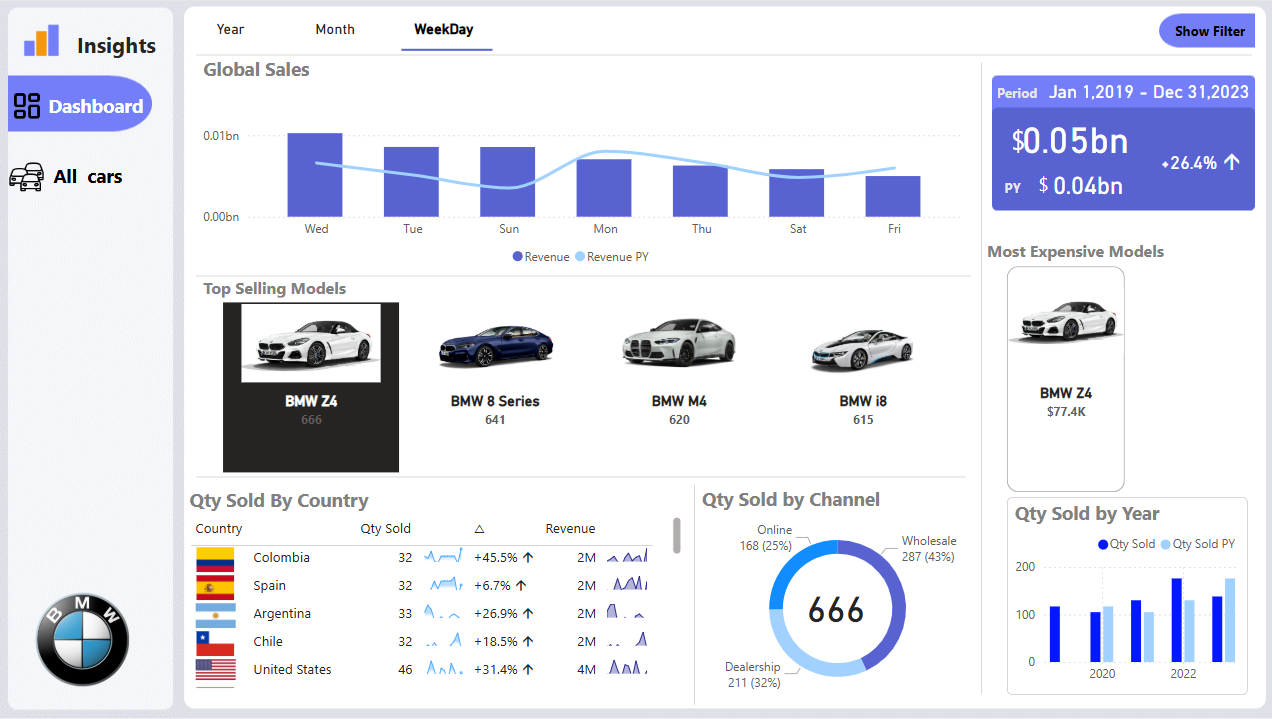

This screenshot's page, from the dashboard's own definition file:
{"tool":"powerbi","page":{"name":"BMW Dashboard","canvas":[1280,720],"ordinal":0},"visuals":[{"type":"advancedSlicerVisual","fields":{"Values":["PeriodSlicer.PeriodSlicer"]},"box":[201.1,0,300.8,55.2],"z":0},{"type":"textbox","box":[75.3,23.8,98.3,40],"z":0,"group":"g2"},{"type":"image","box":[10.3,13.8,68.3,48.3],"z":1000,"group":"g2"},{"type":"lineClusteredColumnComboChart","title":" Global Sales","fields":{"Category":["Calendar.Year"],"Y":["All Measures.Revenue"],"Y2":["All Measures.Revenue PY"]},"box":[201.1,55.2,768.9,218.9],"z":1000},{"type":"card","fields":{"Values":["All Measures.Revenue"]},"box":[1007.5,110,142.5,52.5],"z":2000,"group":"g3"},{"type":"card","fields":{"Values":["All Measures.Revenue PY"]},"box":[1030,156.2,122.5,55],"z":3000,"group":"g4"},{"type":"textbox","box":[1002,172.6,53.4,39.2],"z":4000,"group":"g4"},{"type":"card","fields":{"Values":["All Measures.Revenue Variance % Arrow"]},"box":[1135,135.4,133,55.1],"z":5000},{"type":"card","fields":{"Values":["All Measures.Selected Period"]},"box":[1037.6,64.1,229.6,55.2],"z":6000},{"type":"textbox","box":[994.9,77,60.5,44.5],"z":7000},{"type":"advancedSlicerVisual","title":"Top Selling Models","fields":{"Values":["dimModel.Model"]},"box":[201.3,274.5,780.2,202.5],"z":8000},{"type":"advancedSlicerVisual","title":"Most Expensive Models","fields":{"Values":["dimModel.Model"]},"box":[985.2,238.5,294.8,257.7],"z":9000},{"type":"clusteredColumnChart","title":"Qty Sold by Year","fields":{"Y":["All Measures.Qty Sold","All Measures.Qty Sold PY"],"Category":["Calendar.Year"]},"box":[1010.3,496.2,240.9,197.8],"z":10000},{"type":"donutChart","fields":{"Y":["All Measures.Qty Sold"],"Category":["dimChannel.Channel"]},"box":[699.9,485.4,281.6,220.5],"z":11000},{"type":"card","fields":{"Values":["All Measures.Qty Sold"]},"box":[783.8,575.3,110.3,59.9],"z":12000},{"type":"tableEx","title":"Qty Sold By Country","fields":{"Values":["dimCountry.Flag","dimCountry.Country","All Measures.Qty Sold","All Measures.Qty Sold Sparkline","All Measures.Qty Sold Variance % Arrow","All Measures.Revenue","All Measures.Revenue Sparkline"]},"box":[187,486.6,501.7,206.1],"z":13000},{"type":"textbox","box":[45.7,87.1,115.7,35.7],"z":14000},{"type":"image","box":[10,82.9,40,44.3],"z":15000},{"type":"image","box":[7.1,147.1,44.3,57.1],"z":16000},{"type":"textbox","box":[51.4,157.1,121.4,44.3],"z":17000},{"type":"actionButton","box":[6.2,153.8,172.5,45],"z":18000},{"type":"group","id":"g1","title":"Filter Pane","box":[905.7,12.5,353.3,471.7],"z":19000},{"type":"image","box":[34,584.1,103.2,108.9],"z":20000},{"type":"actionButton","box":[1167.5,12.5,91.4,34.3],"z":20001,"group":"g1"},{"type":"group","id":"g2","title":"Group 1","box":[10.3,13.8,163.3,50],"z":20001},{"type":"textbox","box":[1008.7,115,50,46.2],"z":20002,"group":"g3"},{"type":"textbox","box":[1036.2,165,42.5,38.8],"z":20003,"group":"g4"},{"type":"group","id":"g3","title":"Group 2","box":[1007.5,110,142.5,52.5],"z":20004},{"type":"group","id":"g4","title":"Group 3","box":[1002,156.2,150.5,55.5],"z":20005}]}

Visuals, with their boxes on the page's 1280x720 design canvas (x1, y1, x2, y2). These are canvas units, not pixel positions in the 1272x719 screenshot, which may show the page scaled, cropped or inside an application window:
advancedSlicerVisual - PeriodSlicer.PeriodSlicer: bbox=(201, 0, 502, 55)
textbox: bbox=(75, 24, 174, 64)
image: bbox=(10, 14, 79, 62)
" Global Sales" lineClusteredColumnComboChart: bbox=(201, 55, 970, 274)
card - All Measures.Revenue: bbox=(1008, 110, 1150, 162)
card - All Measures.Revenue PY: bbox=(1030, 156, 1152, 211)
textbox: bbox=(1002, 173, 1055, 212)
card - All Measures.Revenue Variance % Arrow: bbox=(1135, 135, 1268, 190)
card - All Measures.Selected Period: bbox=(1038, 64, 1267, 119)
textbox: bbox=(995, 77, 1055, 122)
"Top Selling Models" advancedSlicerVisual: bbox=(201, 274, 982, 477)
"Most Expensive Models" advancedSlicerVisual: bbox=(985, 238, 1280, 496)
"Qty Sold by Year" clusteredColumnChart: bbox=(1010, 496, 1251, 694)
donutChart - All Measures.Qty Sold x dimChannel.Channel: bbox=(700, 485, 982, 706)
card - All Measures.Qty Sold: bbox=(784, 575, 894, 635)
"Qty Sold By Country" tableEx: bbox=(187, 487, 689, 693)
textbox: bbox=(46, 87, 161, 123)
image: bbox=(10, 83, 50, 127)
image: bbox=(7, 147, 51, 204)
textbox: bbox=(51, 157, 173, 201)
actionButton: bbox=(6, 154, 179, 199)
"Filter Pane" group: bbox=(906, 12, 1259, 484)
image: bbox=(34, 584, 137, 693)
actionButton: bbox=(1168, 12, 1259, 47)
"Group 1" group: bbox=(10, 14, 174, 64)
textbox: bbox=(1009, 115, 1059, 161)
textbox: bbox=(1036, 165, 1079, 204)
"Group 2" group: bbox=(1008, 110, 1150, 162)
"Group 3" group: bbox=(1002, 156, 1152, 212)
